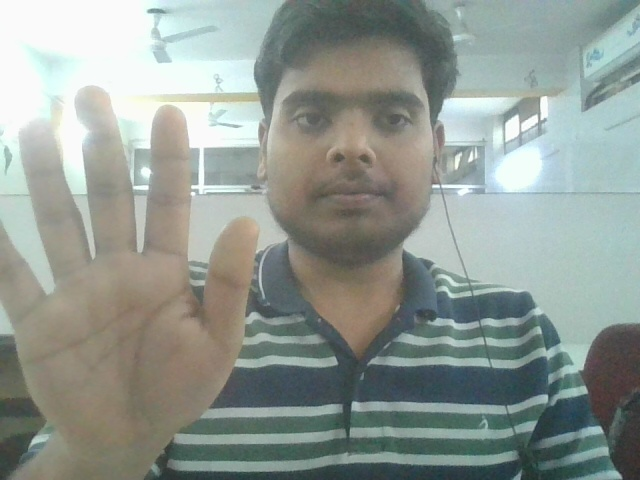Hello: (1, 76, 279, 459)
